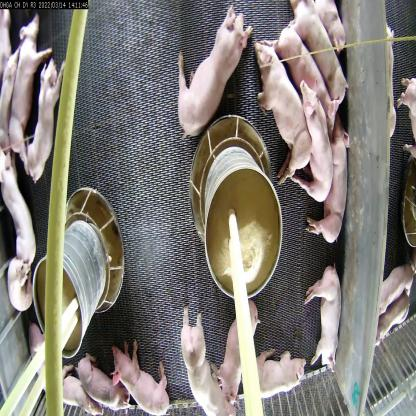Pig: (176, 5, 248, 147), (252, 36, 308, 182), (278, 21, 336, 147), (22, 56, 76, 186), (3, 13, 48, 164), (294, 0, 352, 115), (215, 298, 262, 410), (299, 67, 332, 222), (303, 250, 343, 377), (0, 160, 41, 266), (112, 344, 173, 415), (324, 110, 352, 260), (184, 310, 223, 415), (34, 336, 85, 411), (76, 359, 133, 415), (255, 347, 301, 415), (377, 258, 416, 316), (6, 252, 35, 312)
